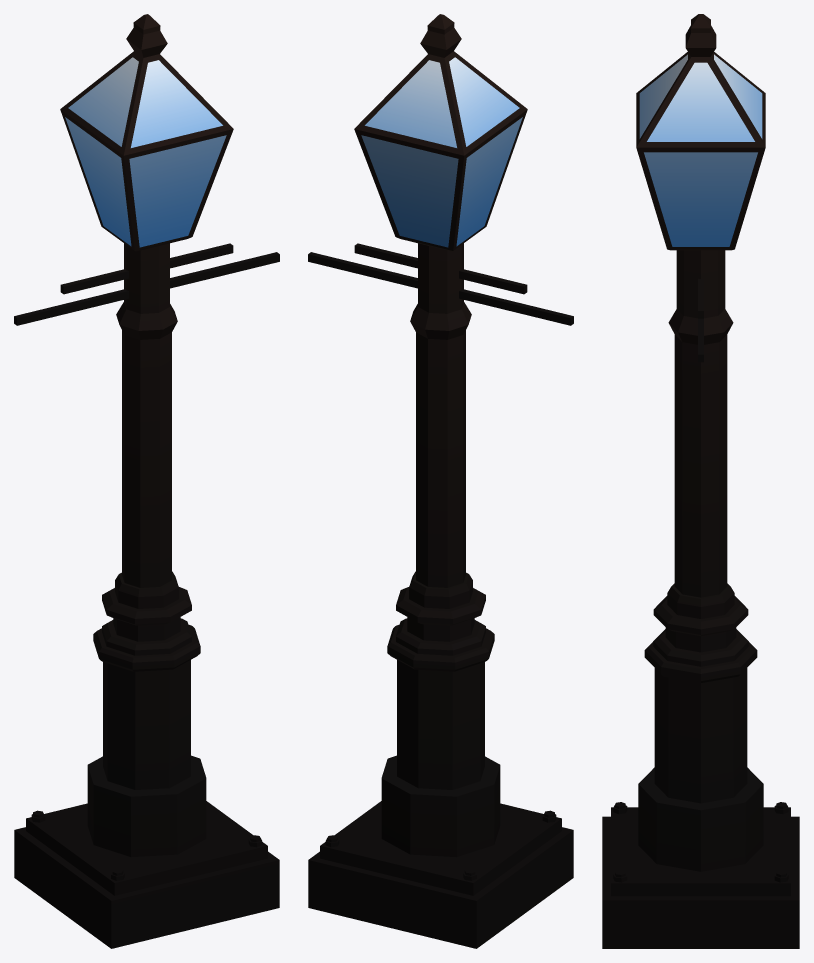
File: LampPost.fbx
3 renders of one model, left to right at view 1: azimuth 30°, elevation 25°; view 2: azimuth 150°, elevation 25°; view 3: azimuth 270°, elevation 25°, orthographic.
Parts seen in each view (by area): view 1: Cube.002; view 2: Cube.002; view 3: Cube.002.
Boxes of the visible parts, x1=… form: Cube.002: x1=14, y1=14, x2=279, y2=948; Cube.002: x1=308, y1=14, x2=573, y2=948; Cube.002: x1=602, y1=14, x2=799, y2=948.
Bounding box in the file's own units: 217 × 693 × 139.
